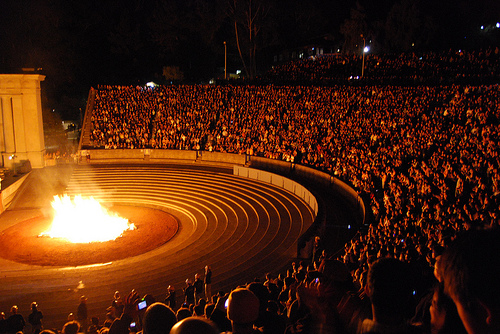fire: (40, 185, 135, 254)
